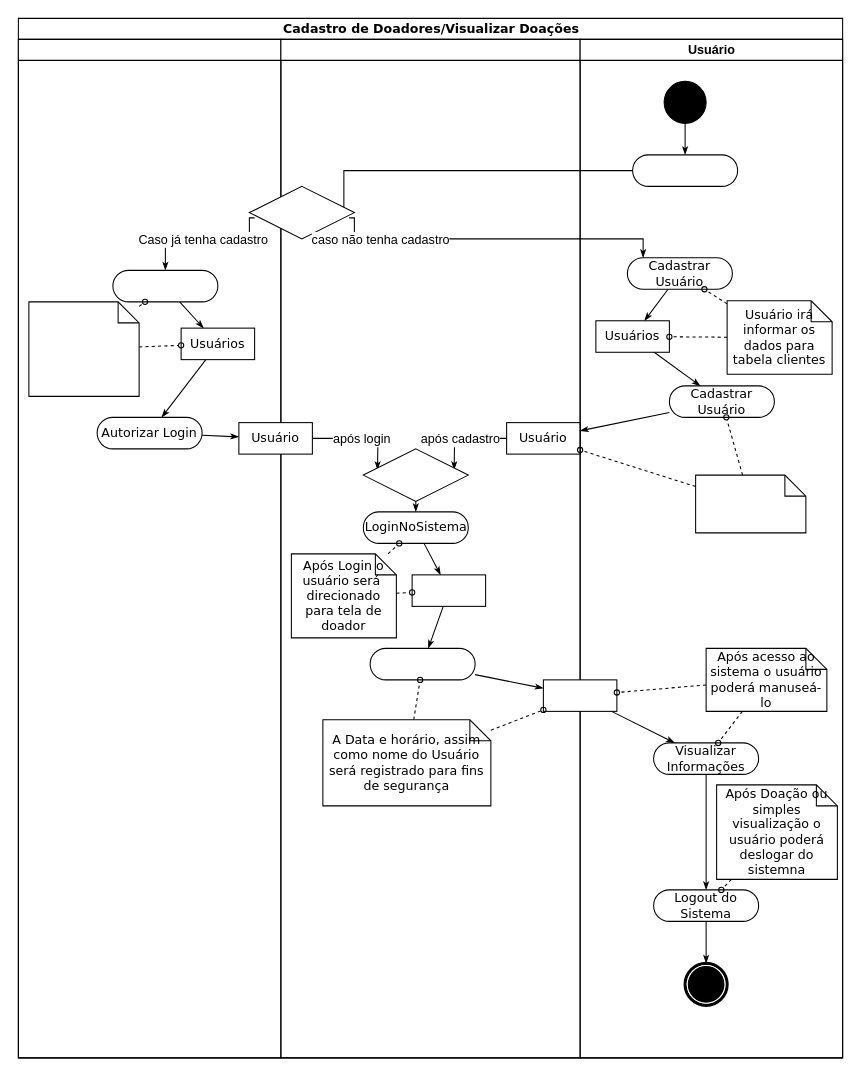
This 861x1076 diagram has some shape labels left out. Here are the shapes that lost their labels. From the top down, the box of each, then its label:
(632, 154, 738, 186): Realizar Login
(112, 269, 218, 302): Busca de Usuário
(28, 301, 139, 396): Ao informar email e senha, será feito uma busca dos dados no banco
(695, 474, 806, 533): Sistema irá verificar se existem dados concorrentes
(17, 38, 281, 1058): Banco de Dados
(280, 38, 580, 1058): Registros
(411, 574, 486, 606): Doador
(369, 647, 475, 680): RegistrarLogin
(542, 679, 617, 711): Entrada no Sistema
